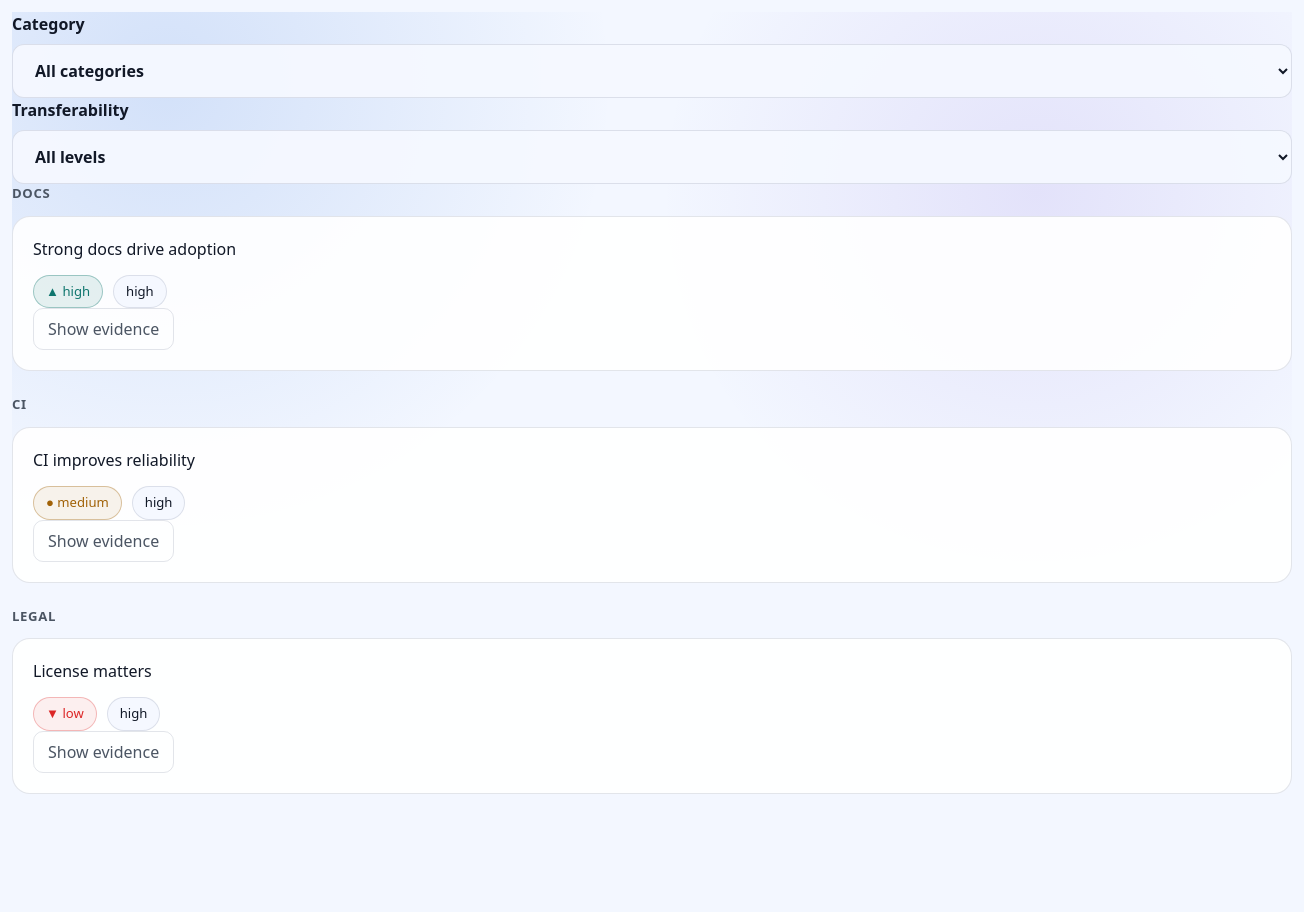
Test: HypothesisCards › filtering by transferability (Requirement 17.2) › filters to show only high transferability
This screenshot has width=1304, height=912.
Select "▲ high" in the dropdown labelled "Transferability" at (652, 157), box [12, 130, 1292, 184]
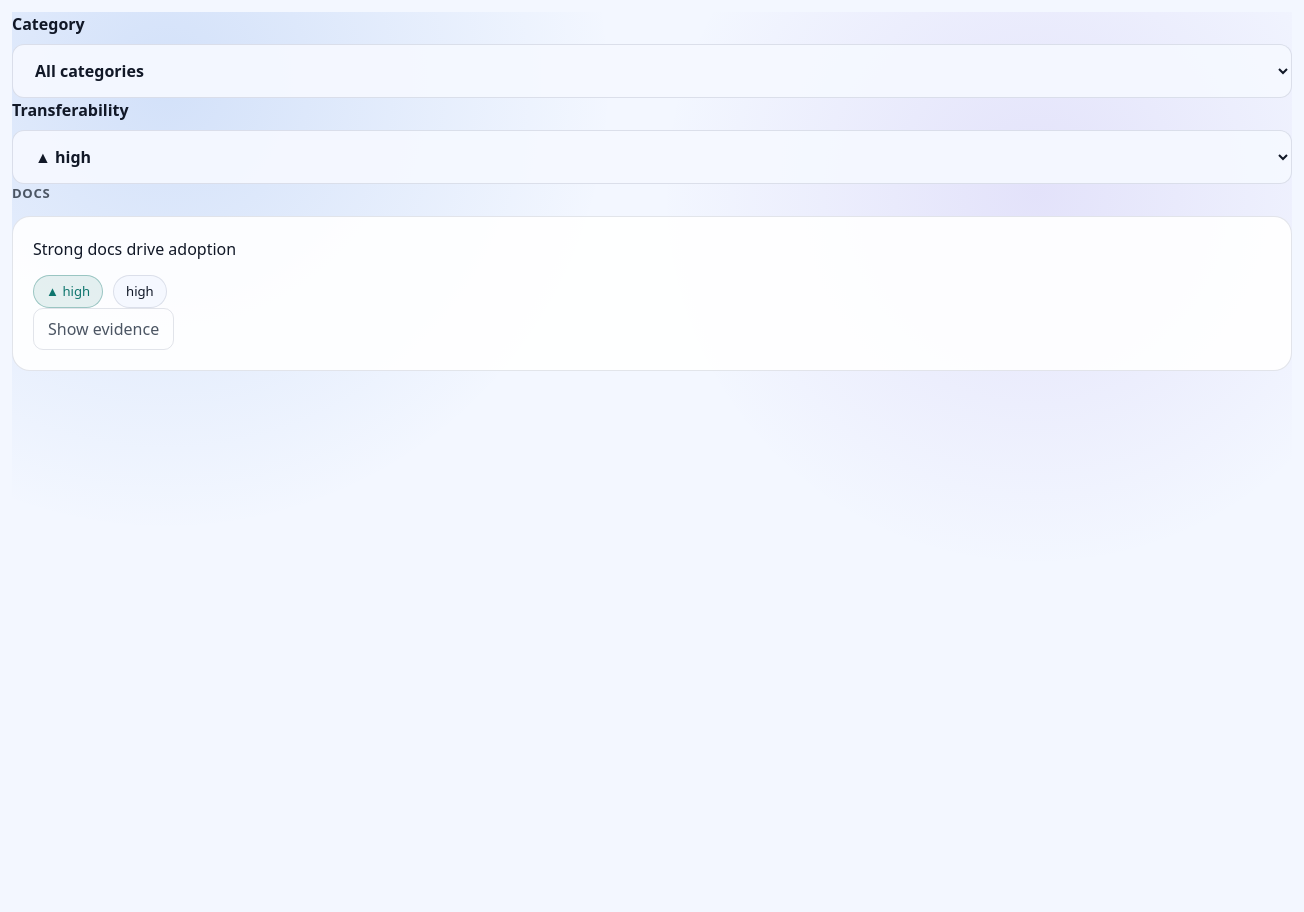
Expected: the heading "Strong docs drive adoption" is shown, [33, 237, 236, 261]
Now the heading "CI improves reliability" is gone
Now the heading "License matters" is gone
